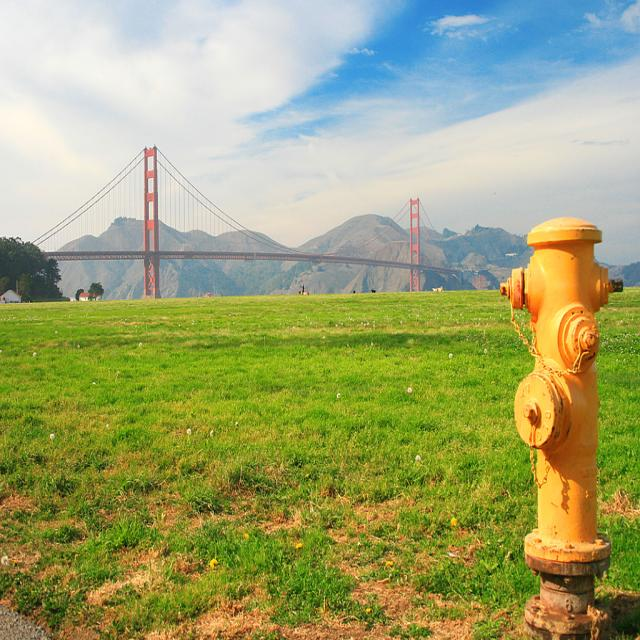fire_hydrant: (500, 222, 622, 636)
